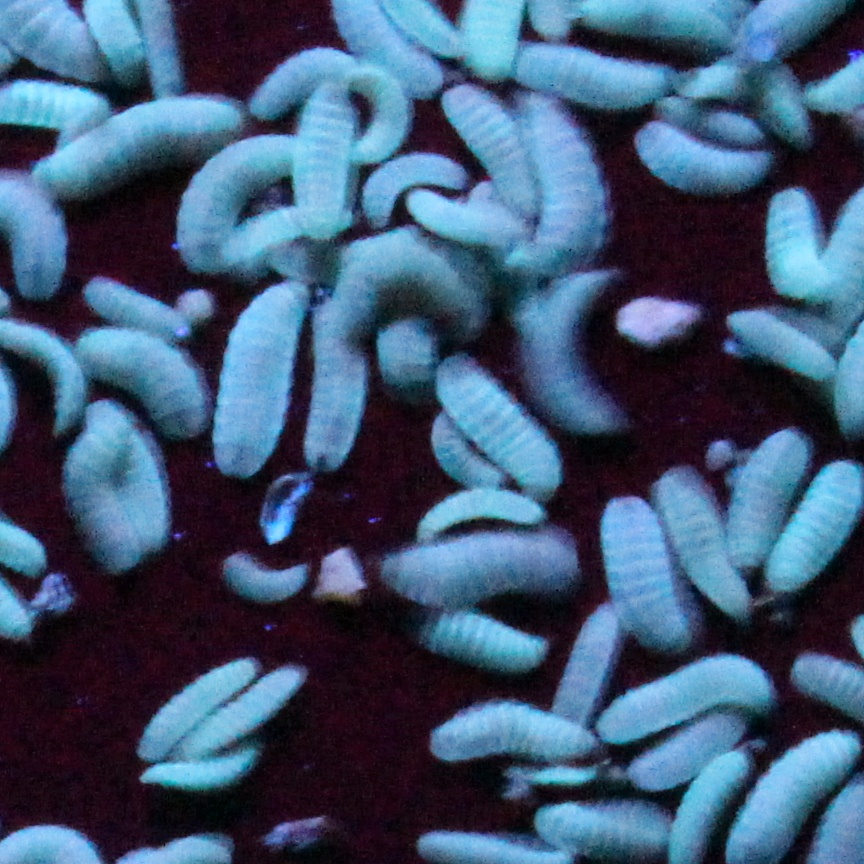larve: (515, 243, 630, 440), (505, 95, 617, 283), (582, 653, 785, 753), (350, 218, 497, 355), (182, 125, 302, 290), (575, 488, 690, 645), (217, 273, 300, 485), (35, 103, 242, 188), (422, 355, 562, 480), (62, 415, 162, 578), (645, 463, 750, 613), (92, 393, 190, 553), (290, 290, 372, 475), (385, 540, 592, 608), (280, 90, 370, 240), (132, 648, 257, 748), (77, 335, 202, 433), (725, 435, 812, 575), (192, 665, 302, 773), (130, 723, 267, 805), (440, 88, 532, 210), (532, 785, 682, 858), (725, 295, 855, 378), (427, 695, 597, 758), (630, 123, 775, 190), (517, 45, 680, 103), (627, 715, 757, 783), (420, 600, 547, 668), (767, 188, 842, 298), (77, 275, 190, 348), (552, 610, 632, 713), (412, 480, 547, 540), (425, 415, 512, 485), (220, 553, 315, 615), (685, 108, 770, 153)
